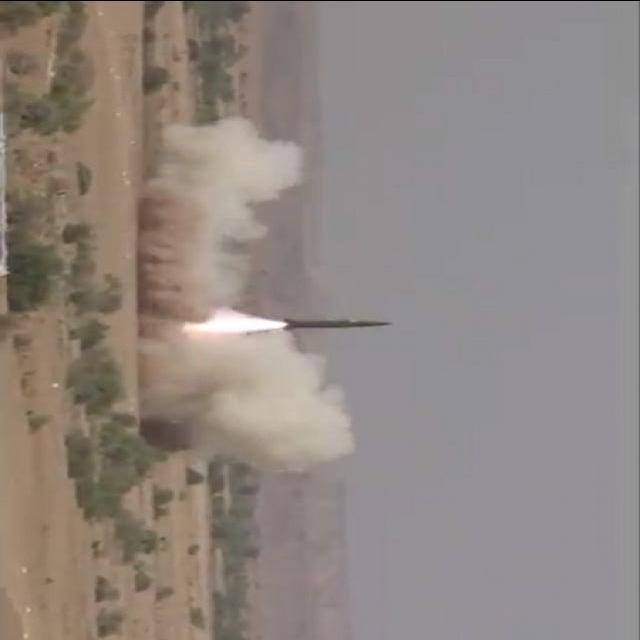missile: (283, 315, 392, 335)
